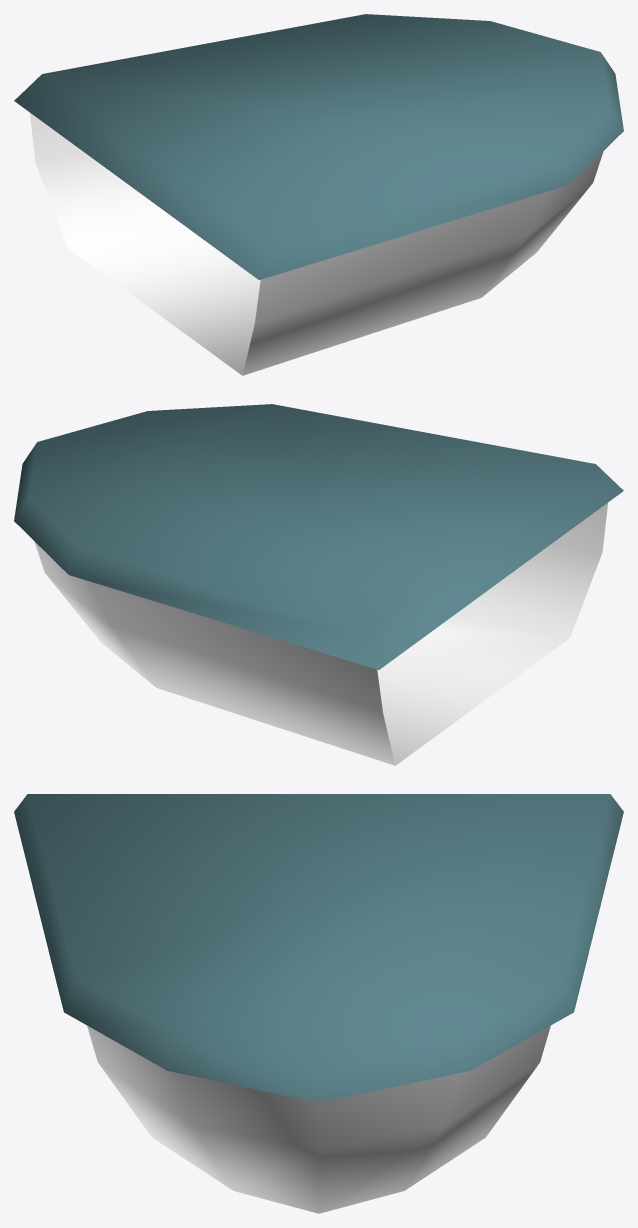
The model's file is SM_Toilet_01.FBX.
The picture shows the model from 3 angles, top to bottom: view 1: azimuth 30°, elevation 25°; view 2: azimuth 150°, elevation 25°; view 3: azimuth 270°, elevation 25°; orthographic projection. The views are drawn at different scales.
Visible parts, largest first — view 1: SM_Toilet_01; view 2: SM_Toilet_01; view 3: SM_Toilet_01.
Boxes of the visible parts, <box> form: SM_Toilet_01: <box>14,14,623,375</box>; SM_Toilet_01: <box>14,404,623,765</box>; SM_Toilet_01: <box>14,794,623,1213</box>.
Size of the model in its own units: 64.28 by 56.97 by 19.4.
